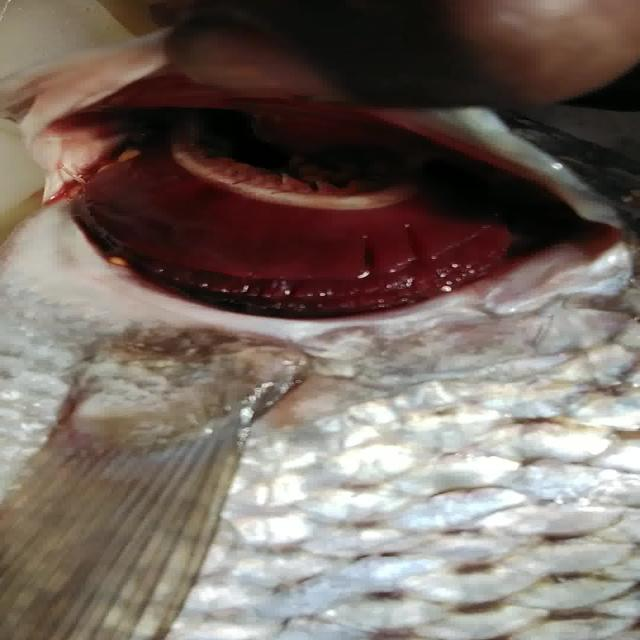Fresh: (65, 91, 565, 335)
